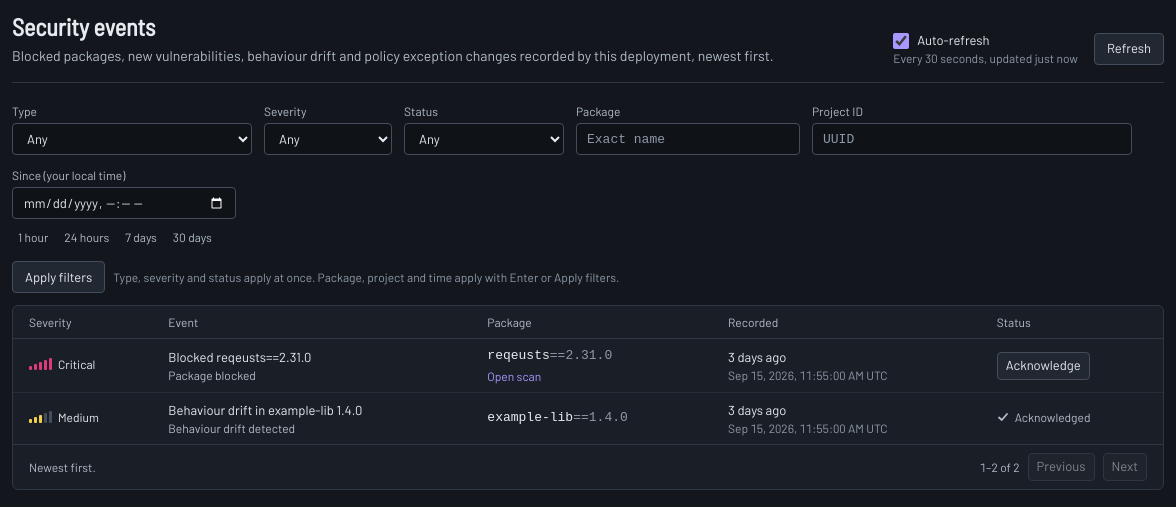
Events › acknowledges optimistically, ignores repeat clicks and keeps focus on the control
This screenshot has width=1176, height=507.
What coordinates should you click on to do the following:
click the button named "Acknowledge event Blocked reqeusts"
I would click on:
 (1043, 366)
Its box is [997, 352, 1090, 380].
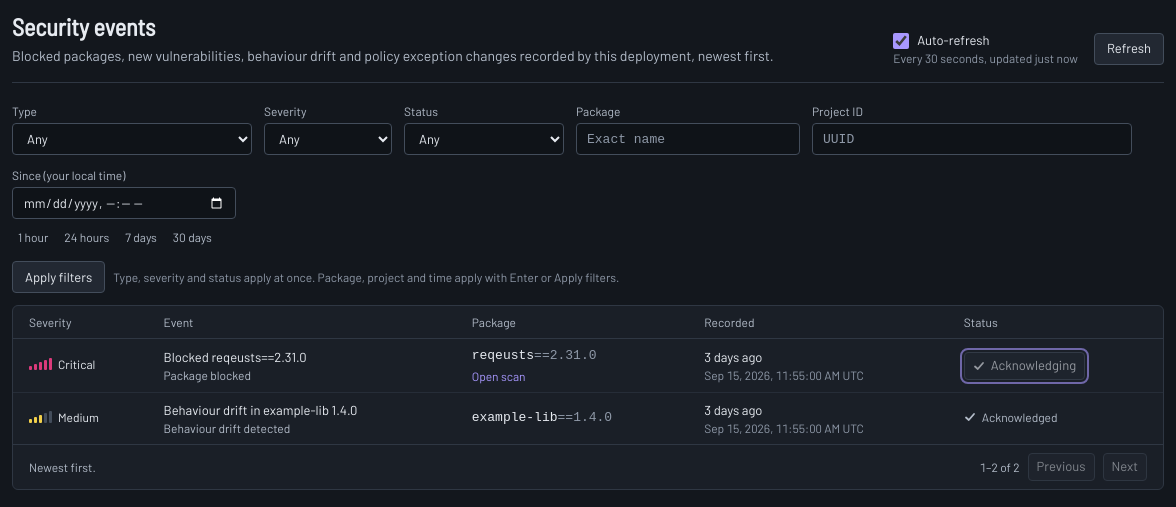
Result: the button named "Acknowledge event Blocked reqeusts" reads "Acknowledging"
What coordinates should you click on to do the following:
click the button named "Acknowledge event Blocked reqeusts"
I would click on:
 (1024, 366)
Its box is [964, 352, 1085, 380].
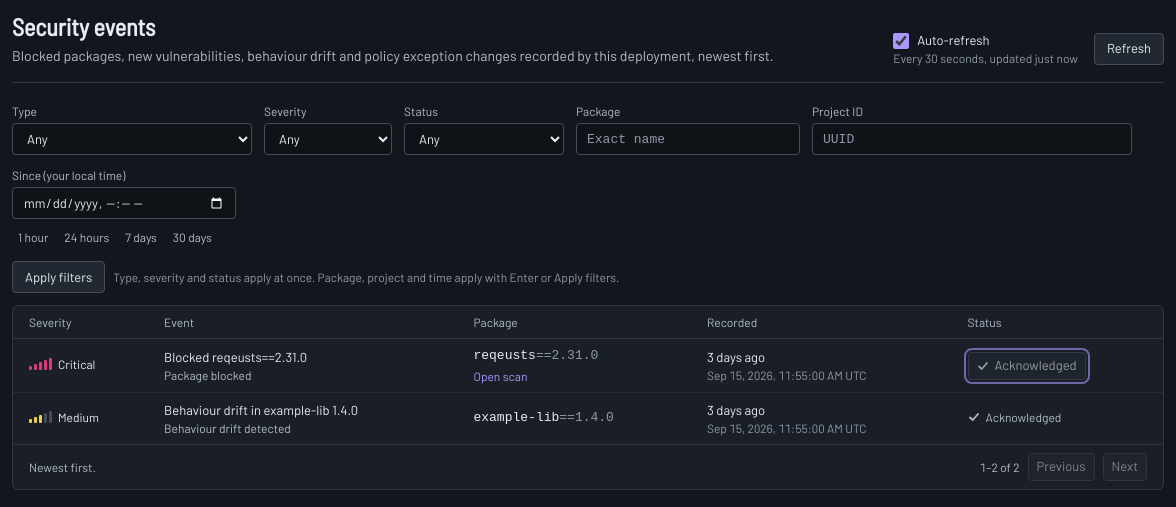
Result: the button named "Acknowledge event Blocked reqeusts" reads "Acknowledged" at [968, 352, 1086, 380]
